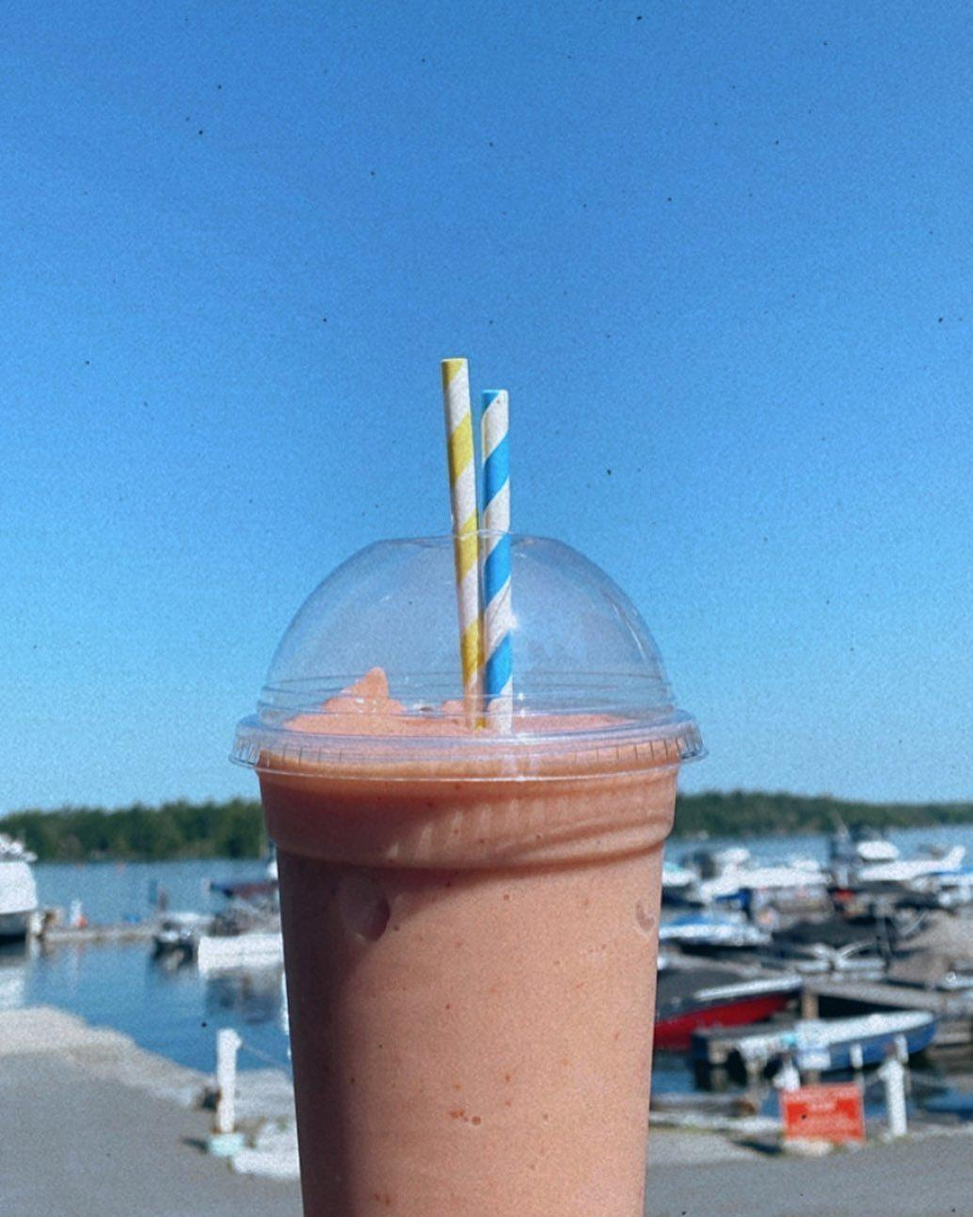cup-disposable: (230, 520, 712, 1217)
